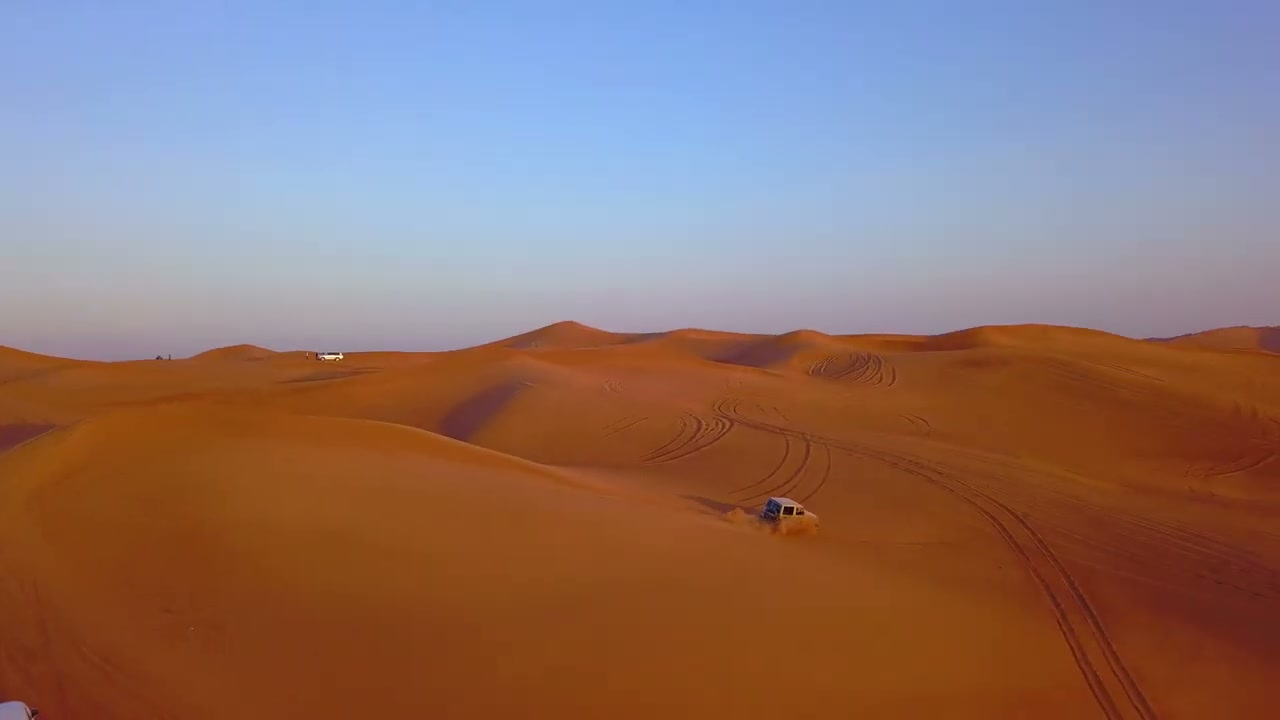vehicle_track: (735, 417, 1156, 719), (1195, 401, 1279, 477), (642, 398, 736, 464), (741, 439, 813, 502), (641, 414, 688, 461), (797, 443, 832, 503), (604, 416, 647, 436), (900, 414, 931, 435)
